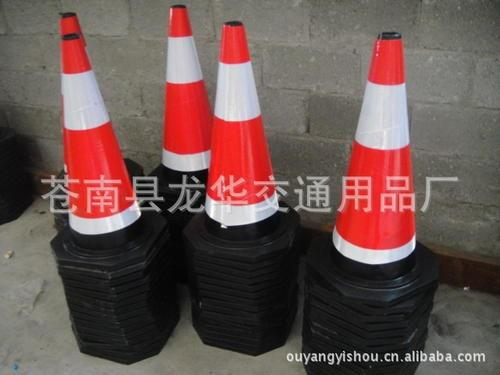cone_barrel: (320, 34, 428, 291), (45, 16, 147, 250), (197, 22, 290, 244), (151, 9, 216, 182)
